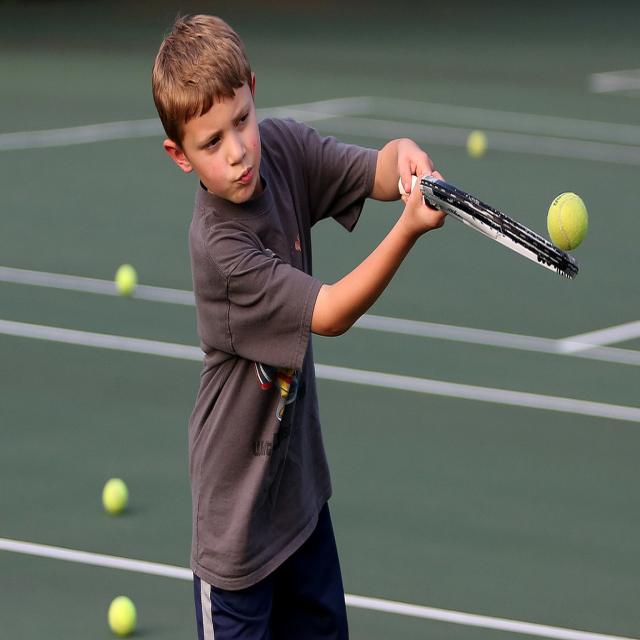Tennis ball: (548, 191, 587, 251), (107, 595, 137, 639), (100, 476, 124, 517), (112, 262, 136, 293), (465, 125, 487, 158)
